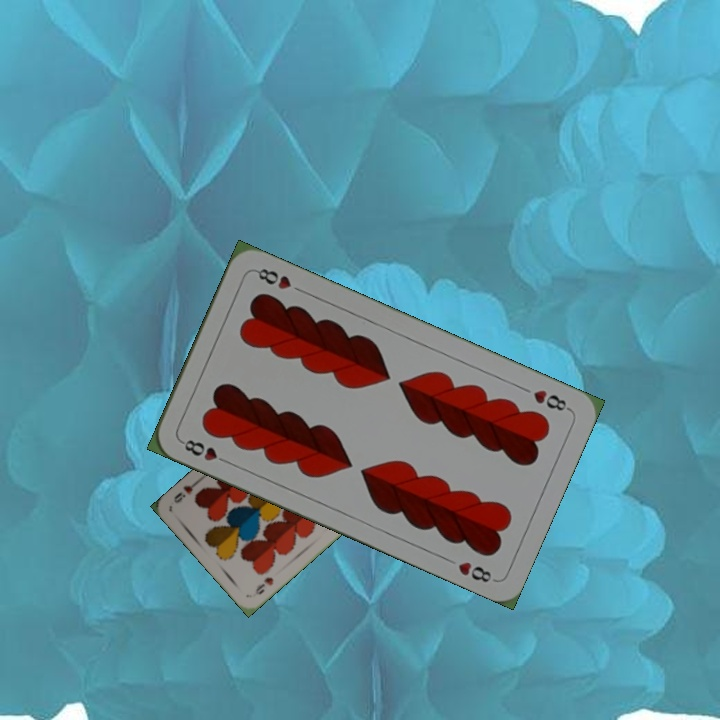H8: (177, 435, 233, 467), (529, 385, 573, 414)
H9: (251, 573, 276, 597)
